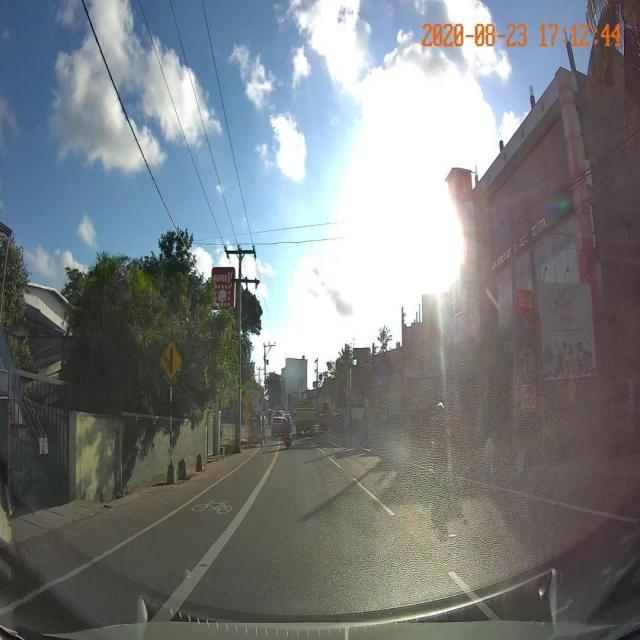Liniya 1: (3, 462, 247, 618), (147, 449, 281, 622), (459, 474, 637, 526), (447, 567, 508, 619), (351, 476, 401, 520)
Velosiped: (190, 498, 233, 515)
